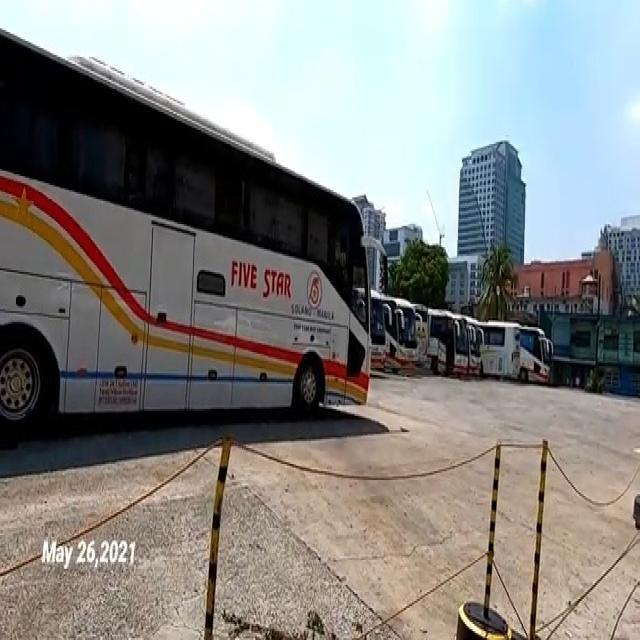bus: (0, 27, 376, 446), (431, 309, 469, 377), (387, 294, 418, 372), (483, 321, 521, 381), (522, 322, 550, 384), (368, 288, 387, 369), (416, 304, 430, 369), (468, 320, 482, 380)
